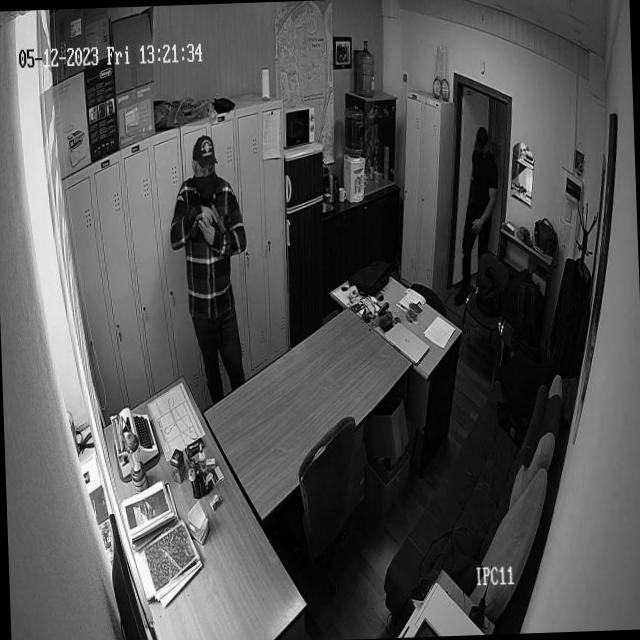gun: (210, 195, 230, 240)
person: (456, 122, 501, 255)
person with a gun: (166, 130, 252, 376)
